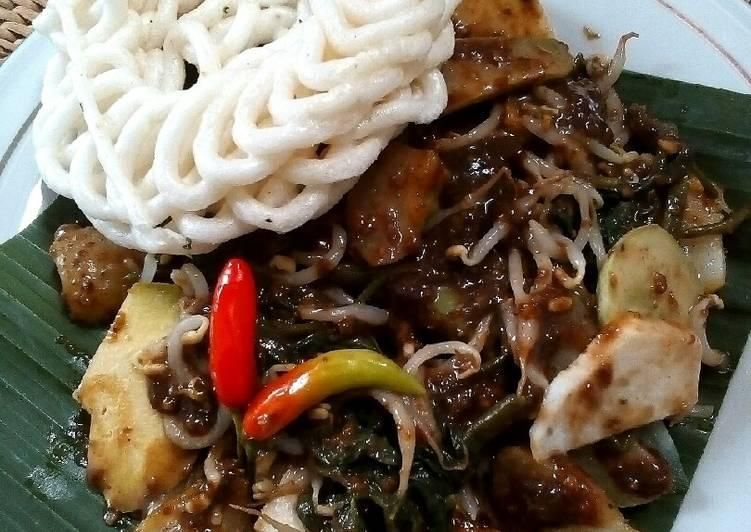rujak_cingur: (50, 3, 727, 532)
